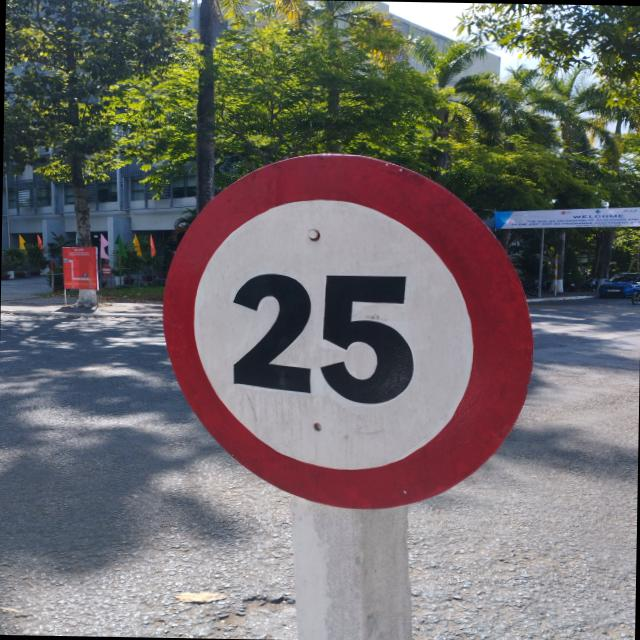Tre_Em: (155, 147, 538, 515)
